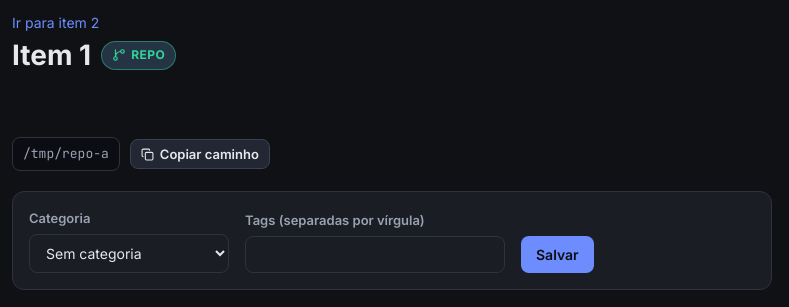
Scenario: ItemDetailPage › resets save status when navigating to a different item
Expected: the heading "Item 1" is shown, [12,34,91,77]
Click the button "Salvar" at x=557, y=255, box [521,236,594,273]
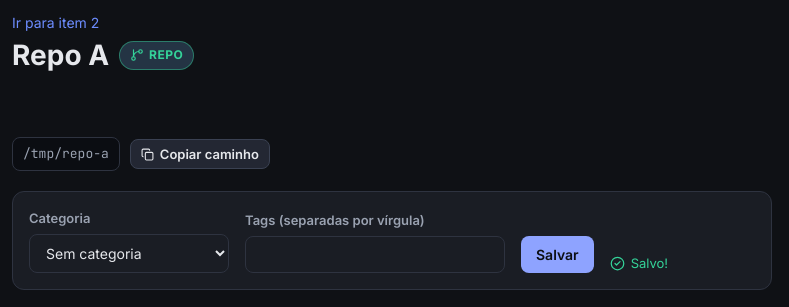
Now the text "Salvo!" is shown, box [610,253,668,273]
Click the link "Ir para item 2" at x=56, y=22, box [12,14,99,31]
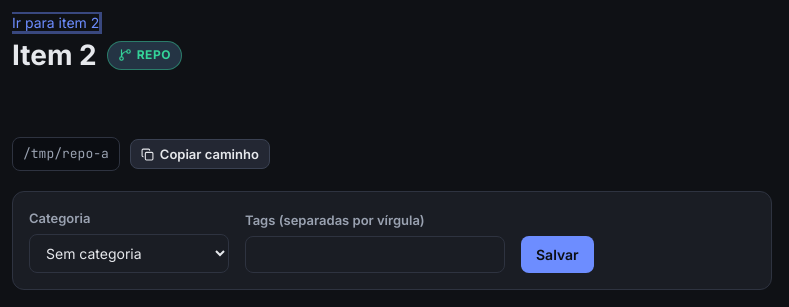
Now the heading "Item 2" is shown, box [12,34,97,77]
Now the text "Salvo!" is gone
